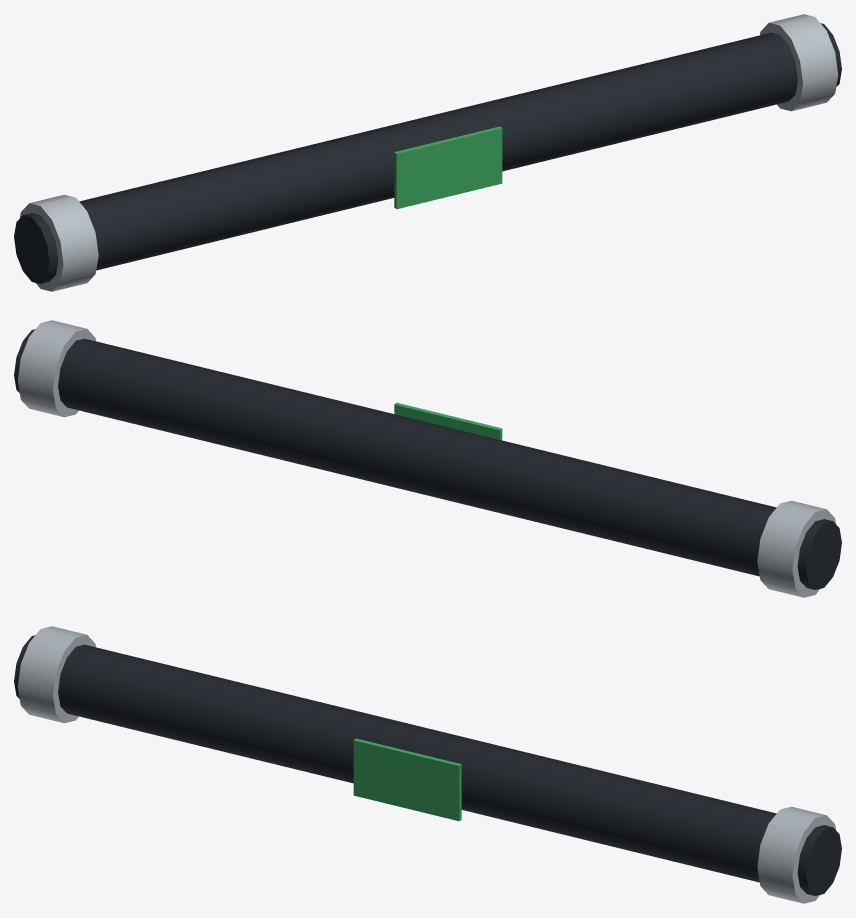
Rendered from spare-hose.glb.
The picture shows the model from 3 angles, top to bottom: view 1: azimuth 30°, elevation 25°; view 2: azimuth 150°, elevation 25°; view 3: azimuth 330°, elevation 25°; orthographic projection.
Visible parts, largest first — view 1: spare-hose-dark-polymer, spare-hose-aluminium, spare-hose-signal-green; view 2: spare-hose-dark-polymer, spare-hose-aluminium, spare-hose-signal-green; view 3: spare-hose-dark-polymer, spare-hose-aluminium, spare-hose-signal-green.
Part boxes in pixels (x1,y1,x2,y2): spare-hose-dark-polymer: [14, 23, 841, 283]; spare-hose-aluminium: [19, 14, 838, 291]; spare-hose-signal-green: [394, 126, 502, 209]; spare-hose-dark-polymer: [14, 329, 841, 589]; spare-hose-aluminium: [17, 320, 836, 597]; spare-hose-signal-green: [394, 402, 502, 440]; spare-hose-dark-polymer: [14, 635, 841, 895]; spare-hose-aluminium: [17, 626, 836, 903]; spare-hose-signal-green: [353, 738, 461, 821].
Bounding box in the file's own units: 0.9 × 0.09 × 0.09.
